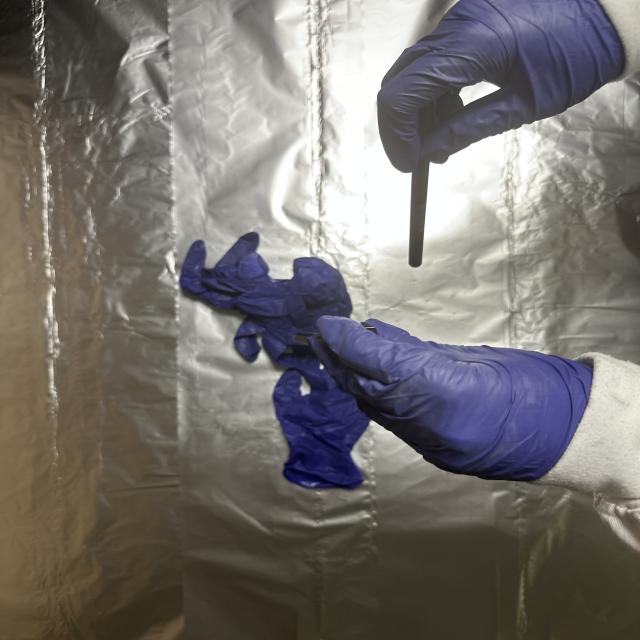gloves_contaminated: (312, 317, 592, 480), (378, 0, 626, 172)
